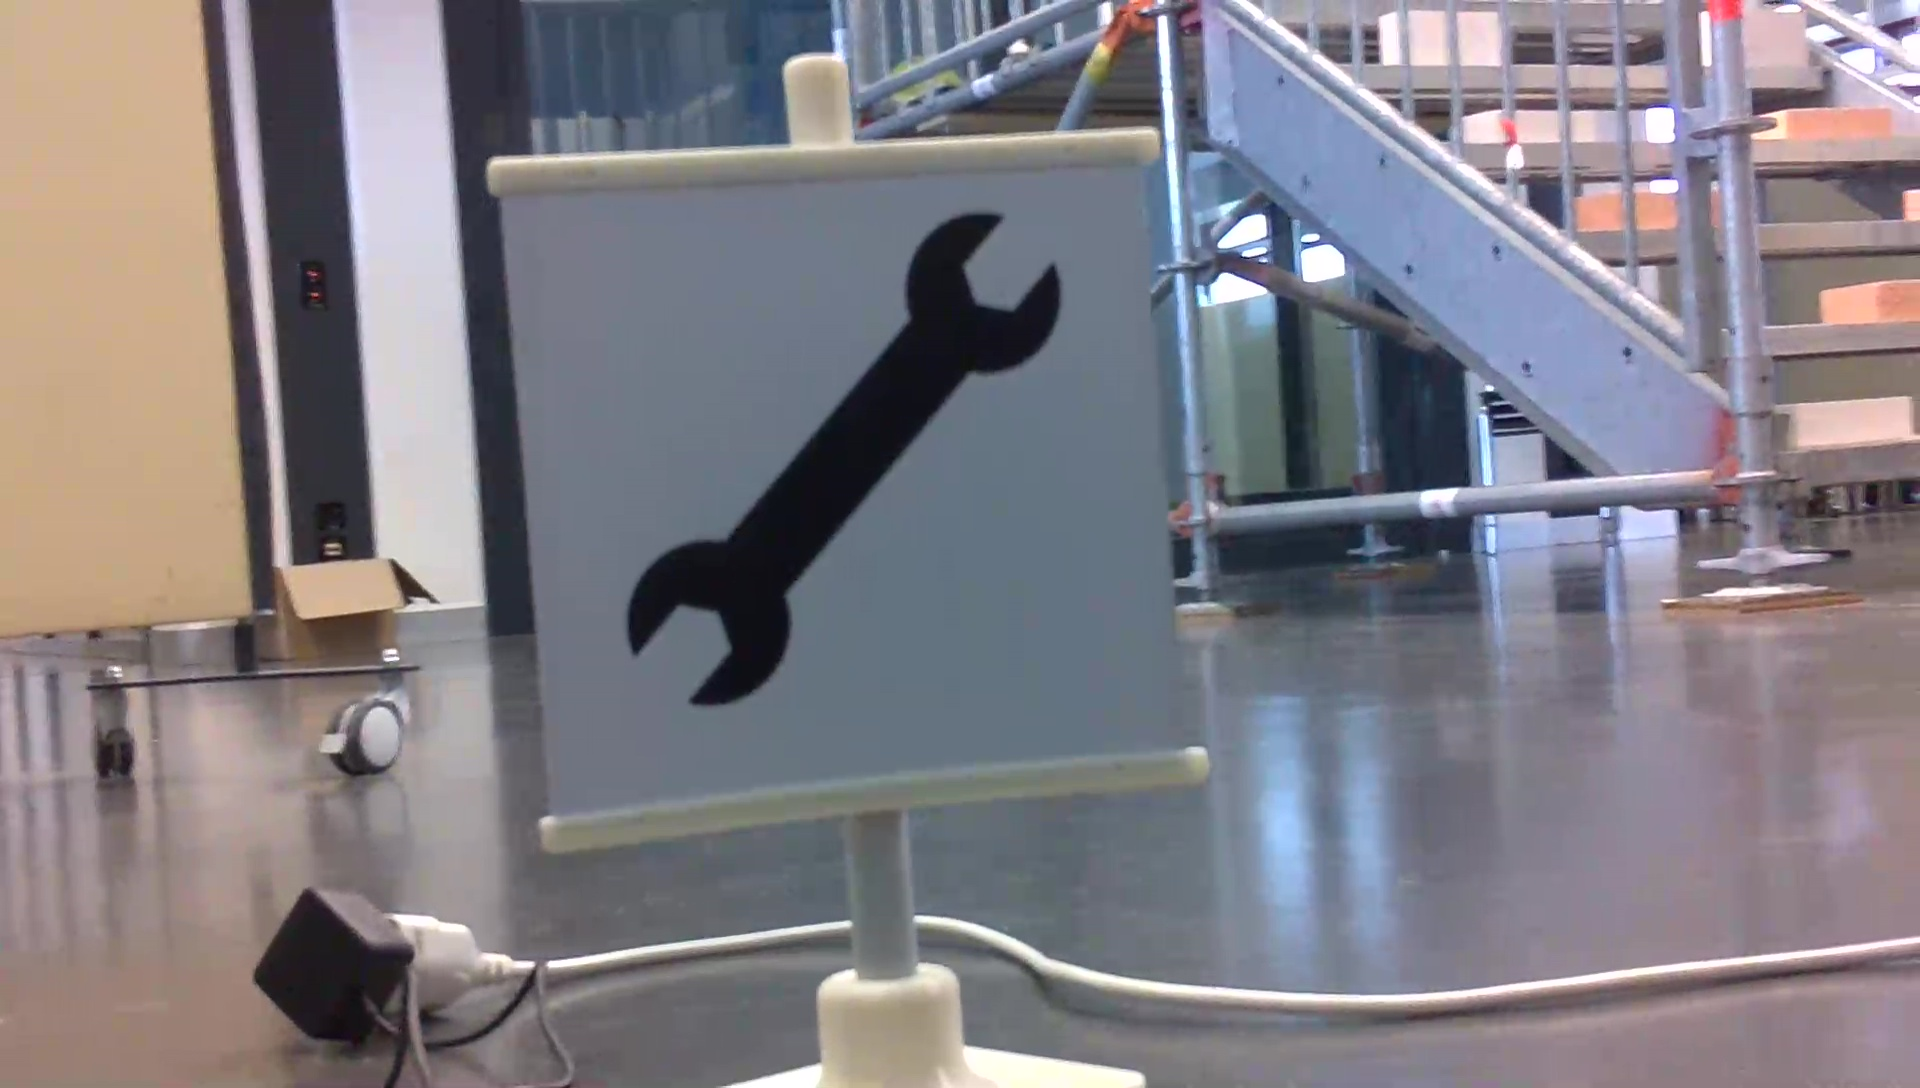brick: (1795, 398, 1912, 444), (1820, 281, 1920, 324), (1768, 106, 1887, 140), (1742, 11, 1803, 67)
wrench: (615, 200, 1073, 720)
